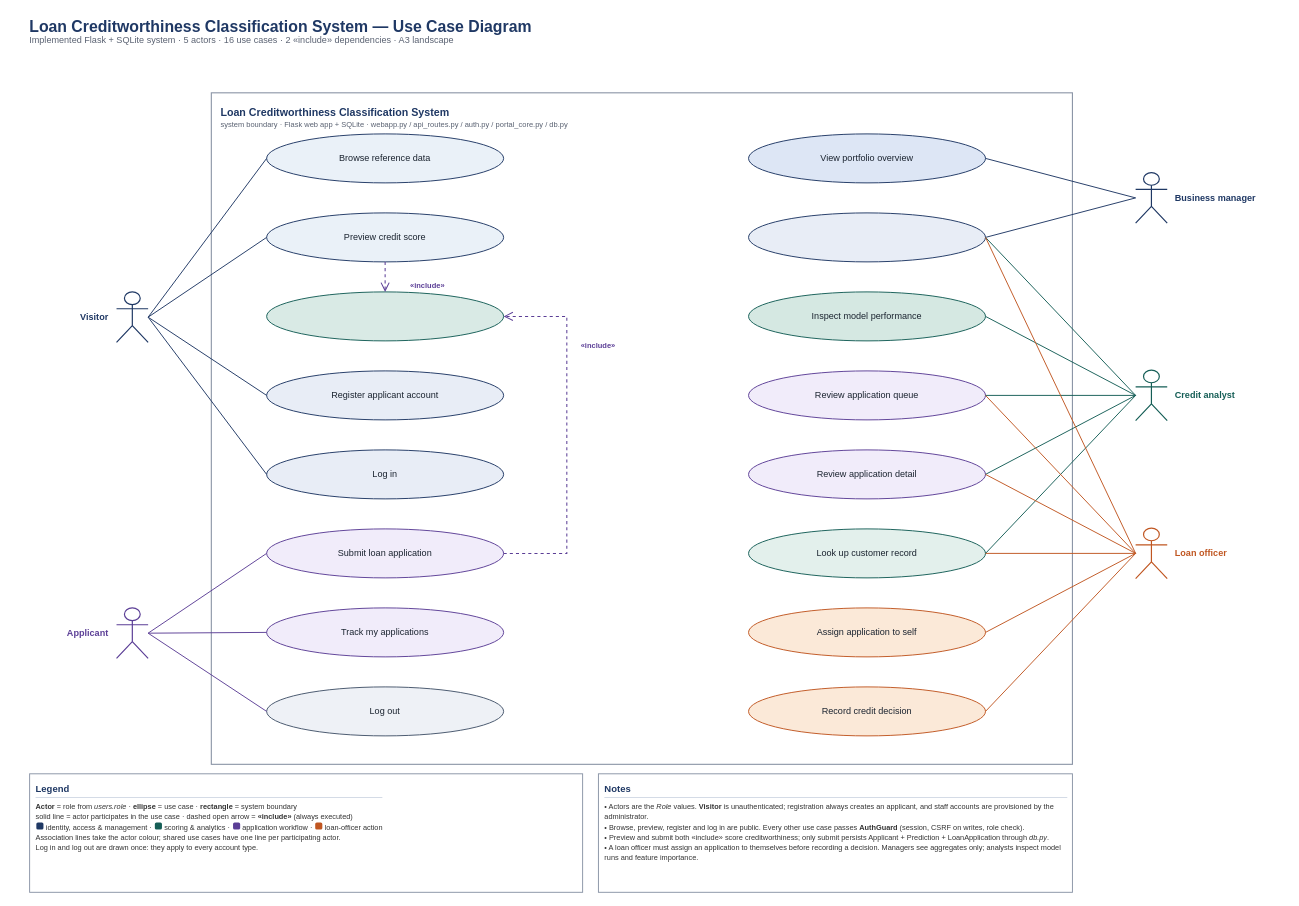
This 1299x906 diagram has some shape labels left out. Each missing label, with the centre of its shape:
Score creditworthiness: point (385, 316)
View staff dashboard: point (867, 237)
